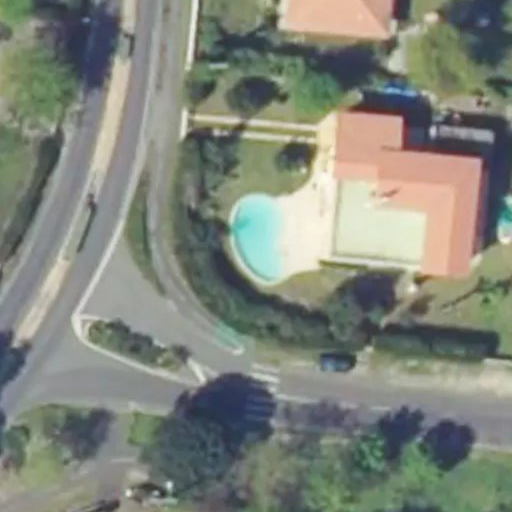pool: (231, 194, 289, 287)
